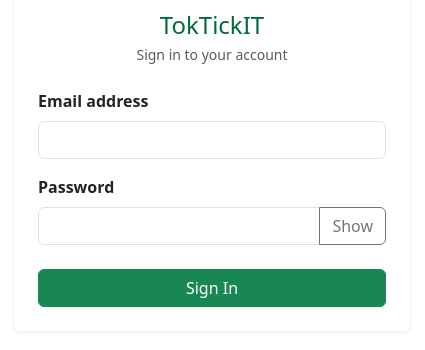
Scenario: Login (AC-01, AC-02) › shows a busy state while the login request is in flight
Type "a@b.com" into the field labelled "Email address".
click(212, 140); type("a@b.com")  # box top-left (38, 121), bottom-right (386, 159)
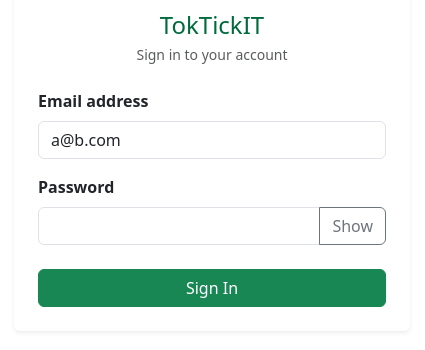
Type "Password1!" into the password field labelled "Password".
click(179, 226); type("Password1!")  # box top-left (38, 207), bottom-right (320, 245)
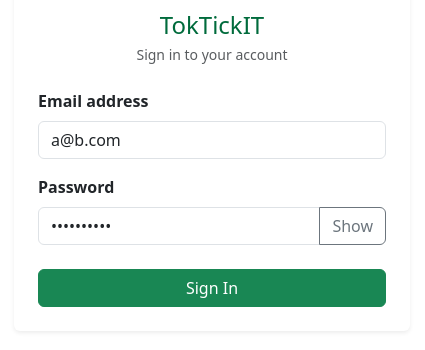
Click the button "Sign In".
click(212, 288)  # box top-left (38, 269), bottom-right (386, 307)
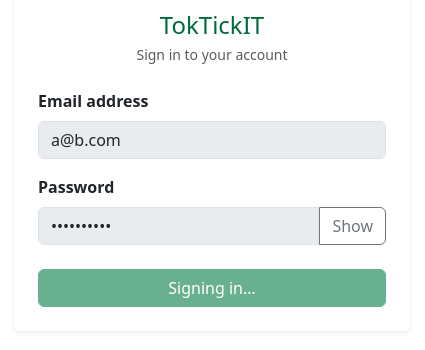
Now the button "Signing in…" is disabled, box top-left (38, 269), bottom-right (386, 307)
